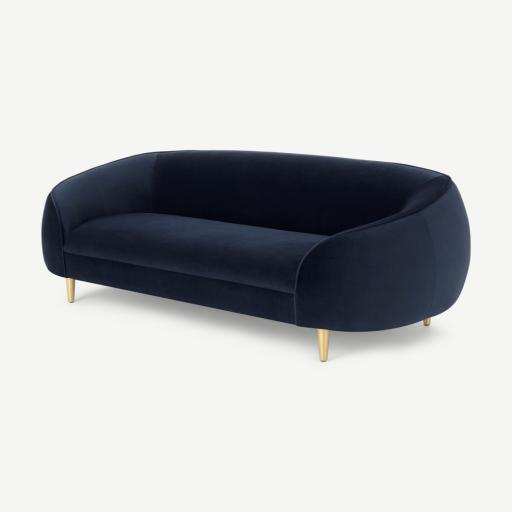back_cushion: (104, 151, 440, 235)
base: (68, 255, 295, 323)
left_arm: (295, 185, 470, 331)
legs: (318, 329, 329, 361), (66, 278, 75, 303), (424, 318, 430, 325)
one-seater: (42, 150, 470, 361)
right_arm: (51, 156, 154, 247)
seat_cushion: (65, 213, 326, 293)
